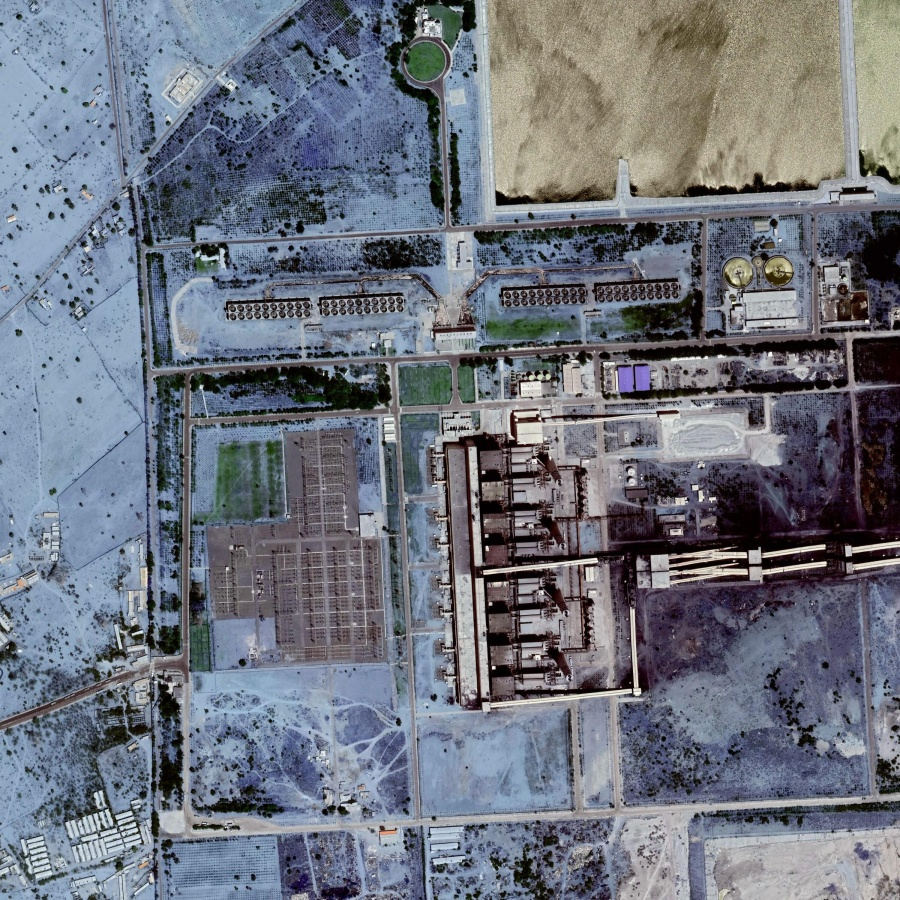PowerPlant: (438, 414, 637, 699)
